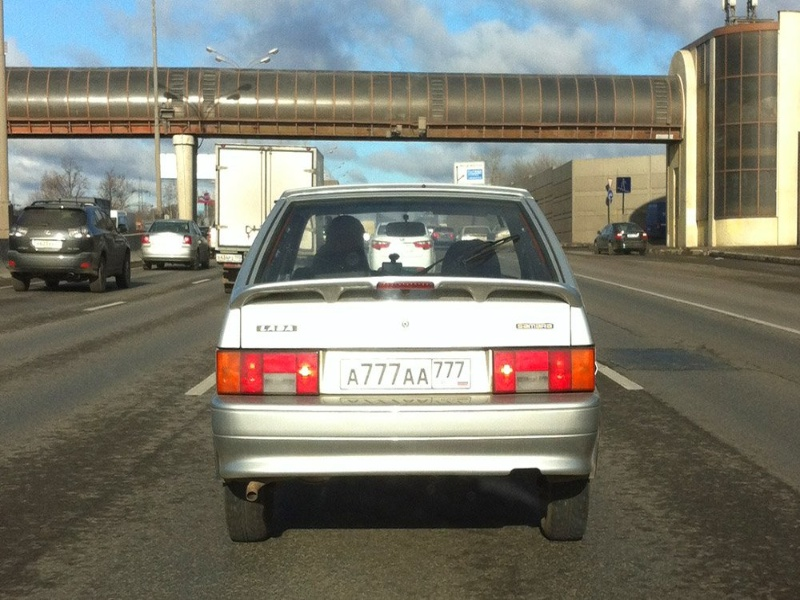car: (214, 184, 600, 541), (214, 144, 324, 291), (8, 201, 132, 292), (141, 220, 211, 272), (370, 221, 434, 273), (593, 223, 647, 253)
plate: (340, 359, 469, 387)
